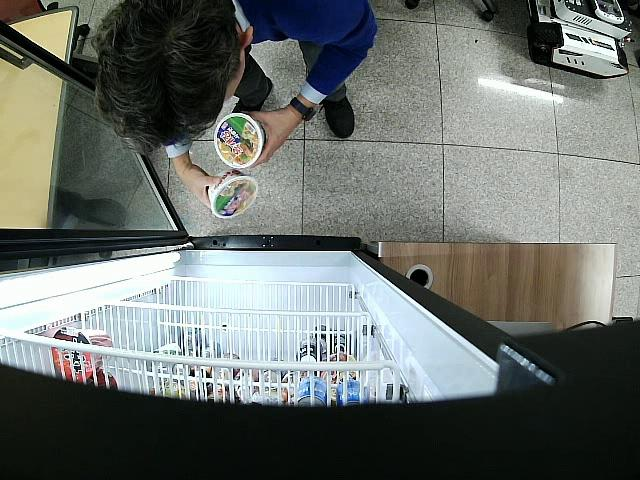00_hand: (248, 109, 298, 168), (174, 166, 222, 212)
09_yukGaeJang: (214, 113, 267, 166), (208, 169, 258, 218)
